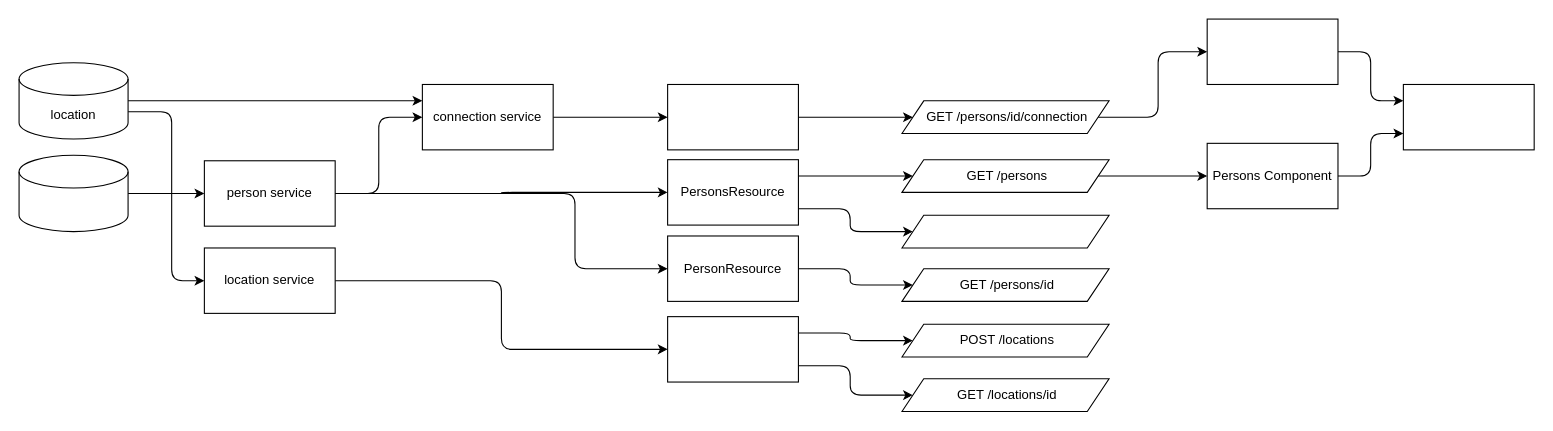
Image size: 1553x431. Some labels were removed from this diagram. The centre of each missing label's shape, as x and y in pixels:
"Connection Component" goes at point (1272, 51).
"ConnectionData Resource" goes at point (732, 116).
"LocationResource" goes at point (732, 349).
"person" goes at point (73, 193).
"POST /persons" goes at point (1005, 231).
"UdaConnect React App" goes at point (1468, 116).
